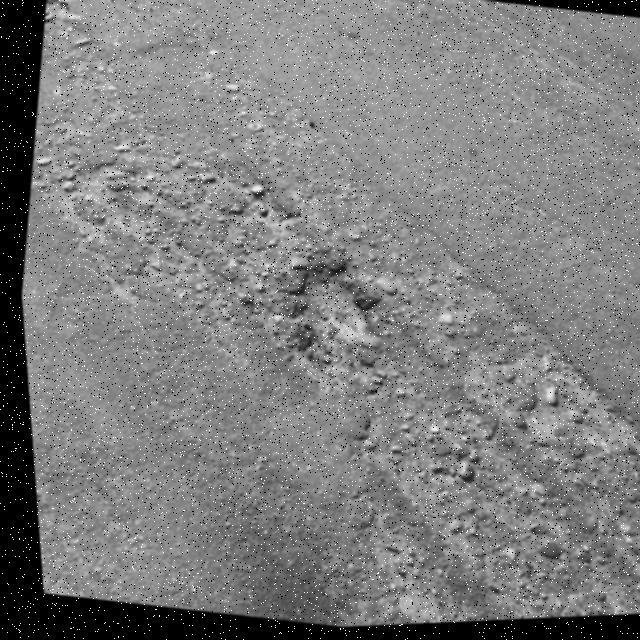pothole: (240, 235, 419, 388)
